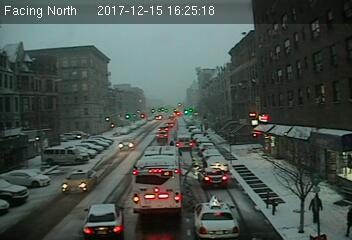bus: (131, 145, 185, 216)
car: (192, 198, 240, 238), (81, 204, 125, 238), (61, 168, 97, 194), (198, 168, 227, 188), (206, 156, 230, 171), (118, 138, 135, 150), (154, 130, 168, 140)
truck: (176, 134, 192, 149)
